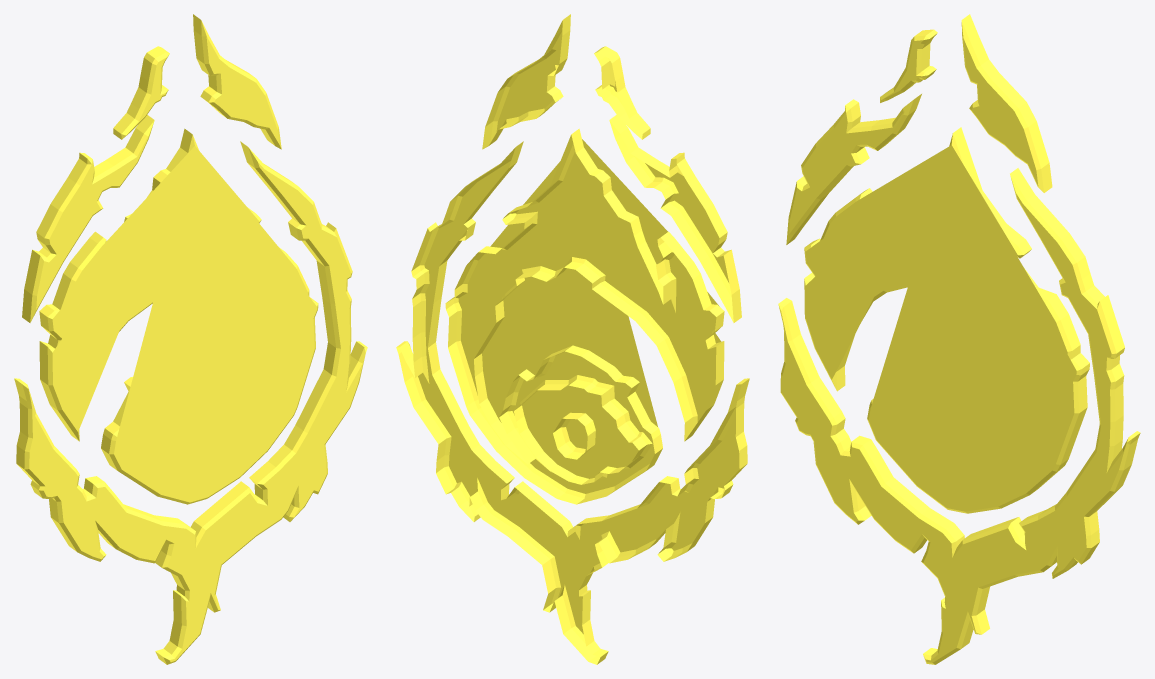
Rendered from CardPattern1.fbx.
3 views of the same model, side by side, from view 1: azimuth 30°, elevation 25°; view 2: azimuth 150°, elevation 25°; view 3: azimuth 330°, elevation 25° (orthographic). The views are drawn at different scales.
Parts seen in each view (by area): view 1: CardPattern1; view 2: CardPattern1; view 3: CardPattern1.
Part boxes in pixels (x1,y1,x2,y2): CardPattern1: (14, 14, 367, 664); CardPattern1: (396, 14, 749, 664); CardPattern1: (778, 14, 1140, 664).
Bounding box in the file's own units: 219 × 385 × 10.86.
